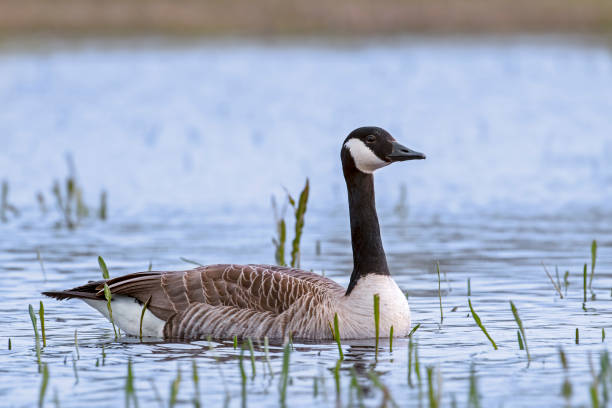goose: (37, 124, 430, 348)
